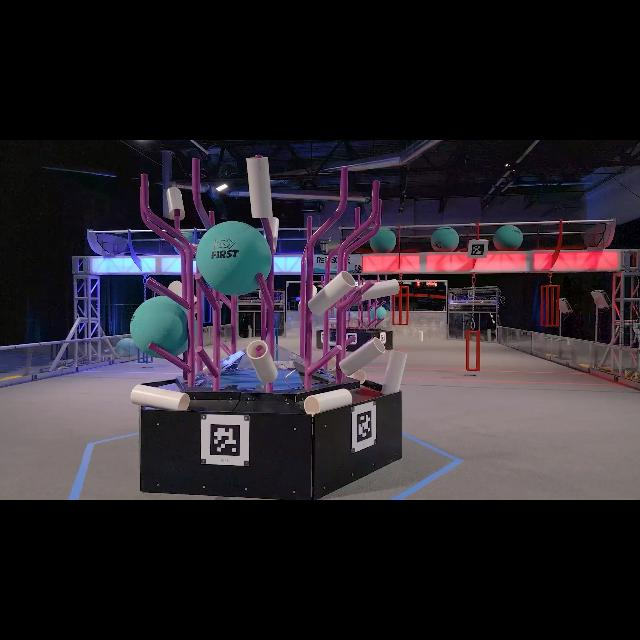ALGAE: (196, 220, 272, 296), (130, 294, 188, 358), (493, 225, 523, 251), (429, 226, 458, 252), (368, 228, 396, 252), (115, 337, 136, 357), (370, 306, 386, 322)
CORAL: (306, 270, 356, 316), (338, 336, 386, 376), (130, 384, 190, 411), (246, 156, 272, 218), (246, 339, 278, 383), (304, 388, 352, 414), (381, 350, 407, 394), (360, 278, 400, 300), (167, 188, 186, 220)
